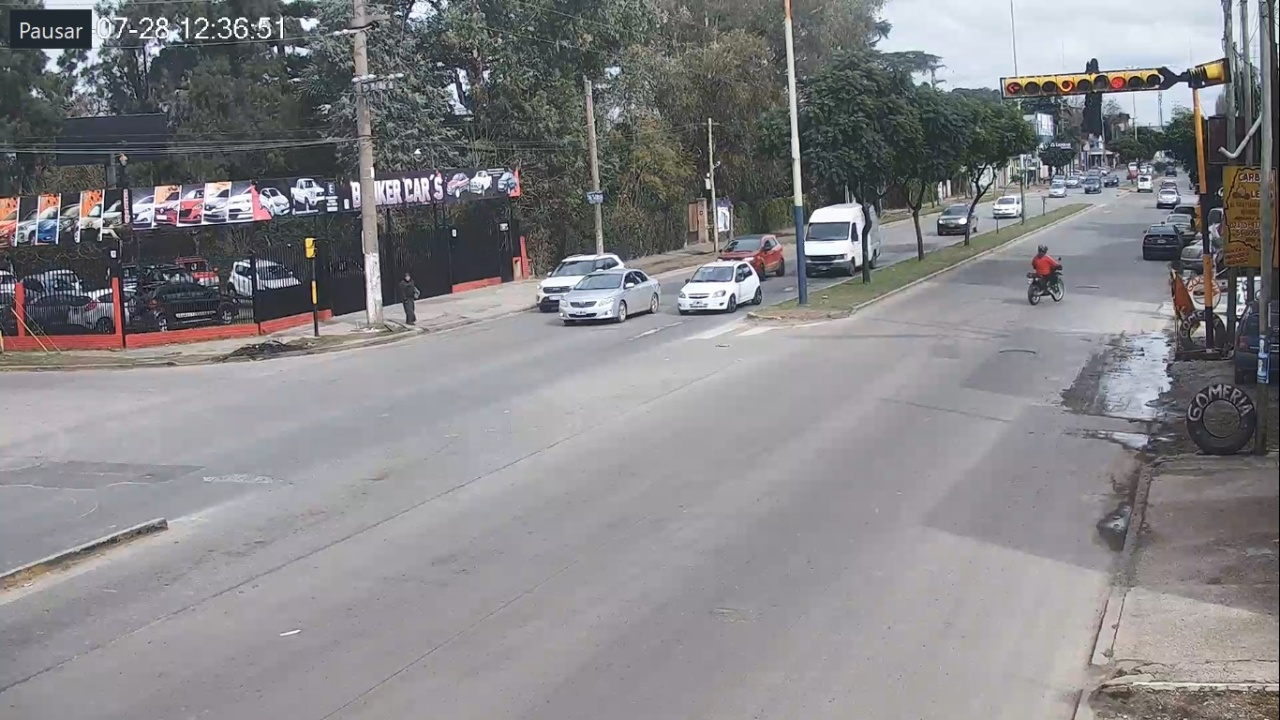motorcycle: (1027, 245, 1065, 303)
traffic light: (1057, 70, 1161, 91)
